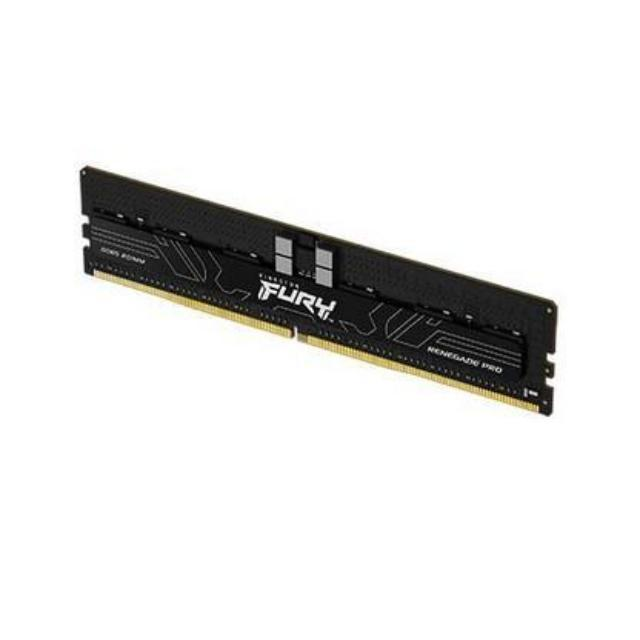RAM: (70, 164, 562, 421)
